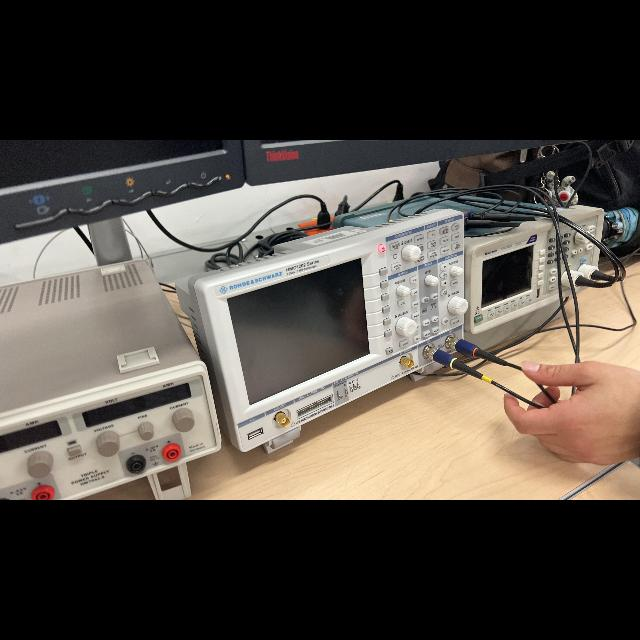Digital-Oscilloscope: (178, 209, 467, 452)
